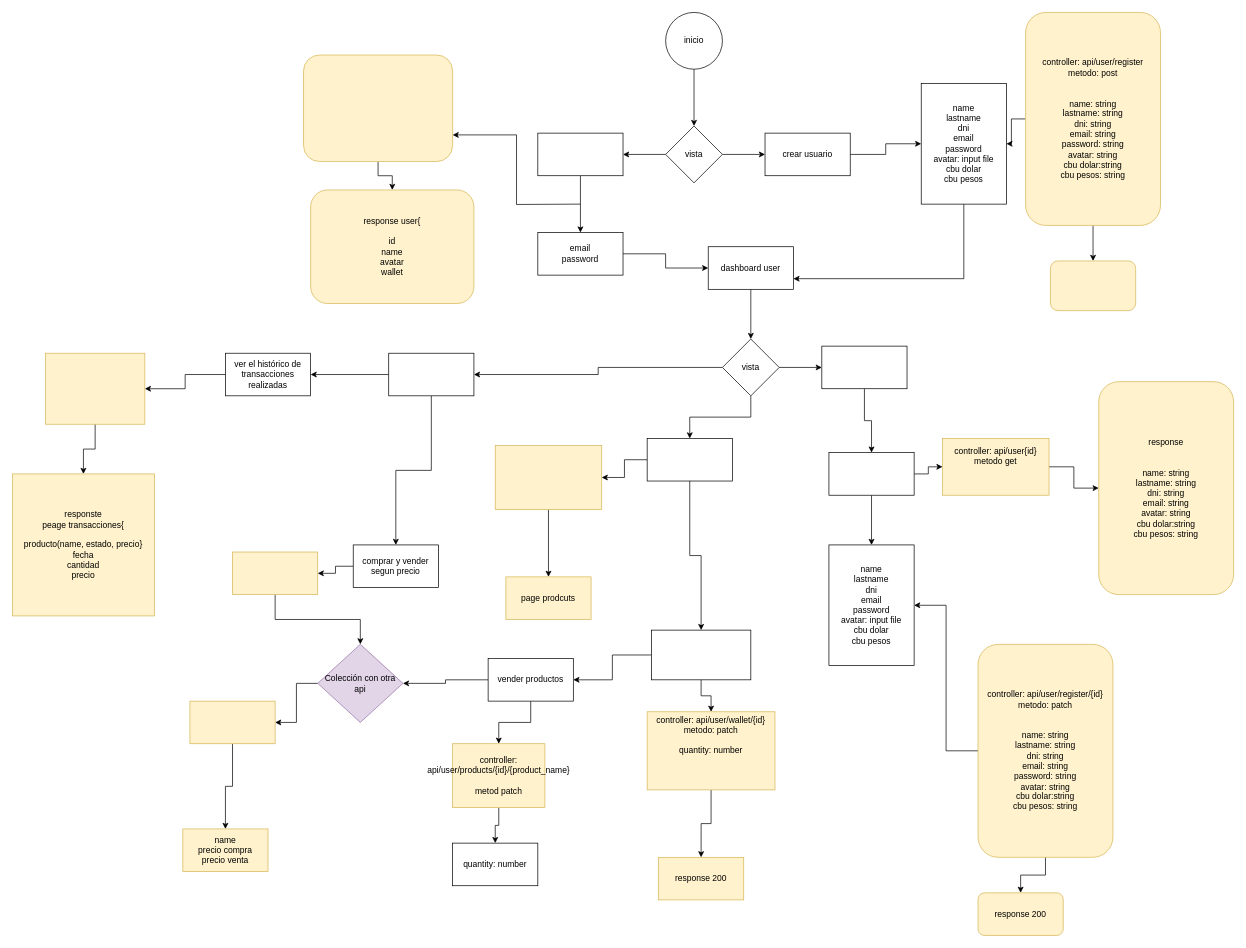
Image size: 1246x948. Some labels were removed from this diagram. The shapes that lost their labels are listed below. From the top down, each one's centre as x and y in pixels, then its label:
(x=378, y=108): controller: api/user/login metodo: post email: string password: string
(x=580, y=154): login
(x=1093, y=285): response user id name avatar wallet
(x=431, y=374): dashboard create offer component
(x=864, y=367): config user page
(x=95, y=388): controller: api/user/transactions/{id} metodo get
(x=548, y=477): controller: api/user/products/{id} metodo: get
(x=689, y=459): dash board wallet
(x=871, y=473): midificar datos personales
(x=275, y=573): controlller : api/products metodo get
(x=701, y=654): listar todas las divisas y cargar el dinero de la billetera
(x=232, y=722): comprar: page productos
